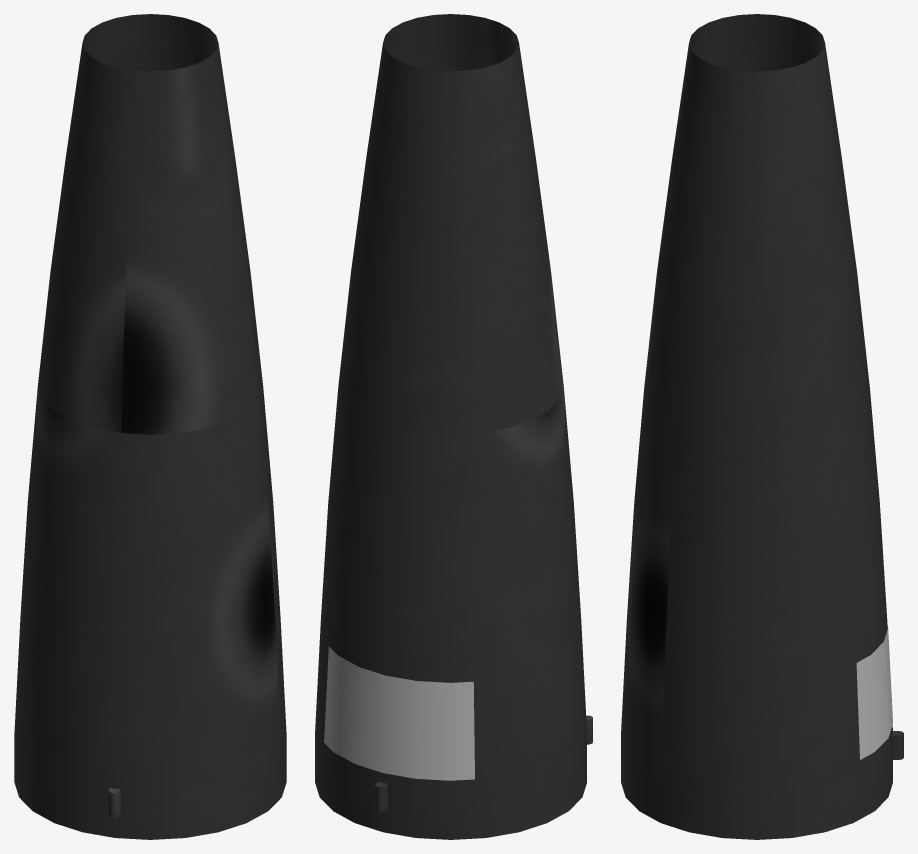
Rendered from blue_steel_crew_s1_1.obj.
3 renders of one model, left to right at view 1: azimuth 30°, elevation 25°; view 2: azimuth 150°, elevation 25°; view 3: azimuth 270°, elevation 25°, orthographic.
Visible parts, largest first — view 1: mesh1; view 2: mesh1, flag1; view 3: mesh1, flag1.
Part boxes in pixels (left/top/right/bottom): mesh1: left=14, top=14, right=286, bottom=839; mesh1: left=315, top=14, right=592, bottom=839; flag1: left=324, top=646, right=474, bottom=780; mesh1: left=621, top=14, right=903, bottom=839; flag1: left=856, top=626, right=892, bottom=759.
Size of the model in its own units: 1.25 by 3.75 by 1.3.
